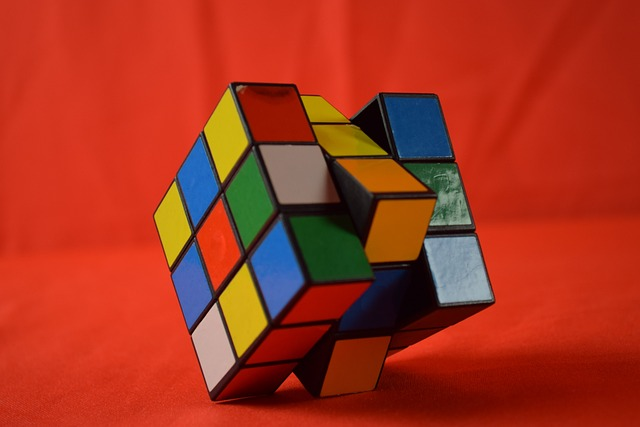cube: (151, 82, 496, 403)
